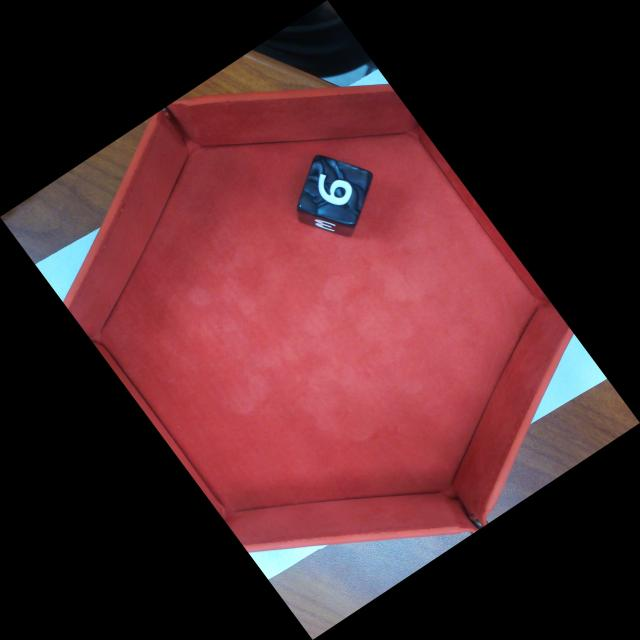dice: (296, 154, 373, 228)
